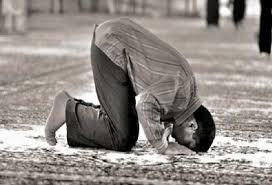sujud: (45, 18, 217, 156)
